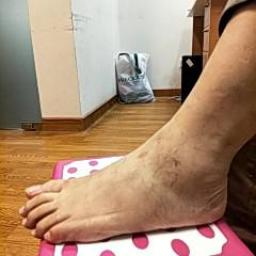Lateral View -Left Foot-: (6, 132, 248, 251)
